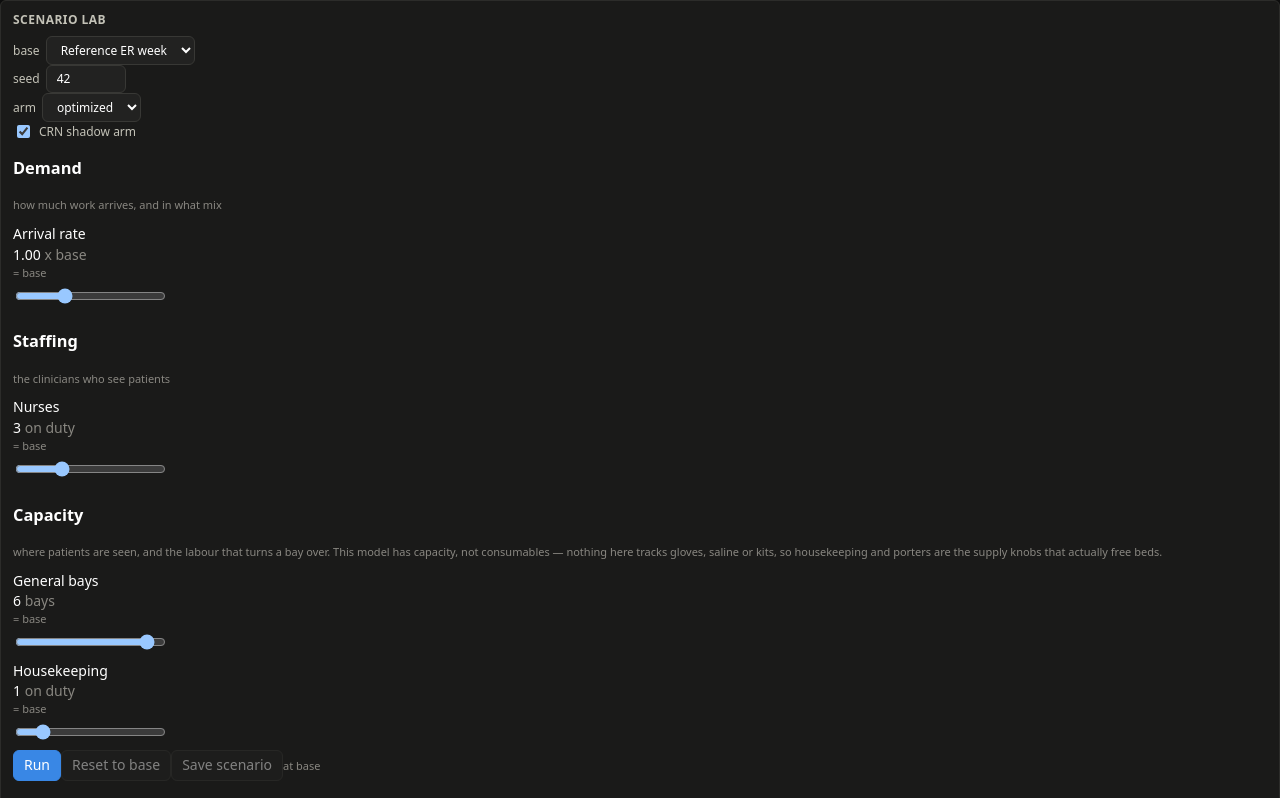
it: ScenarioLab renders from the catalogue › switching base re-reads the catalogue for the new scenario
Expected: the slider named "staffing.nurse_count" holds "3", [15,456,166,482]
Select "Monday surge" in the dropdown named "base scenario": (120, 51) [46,36,195,65]
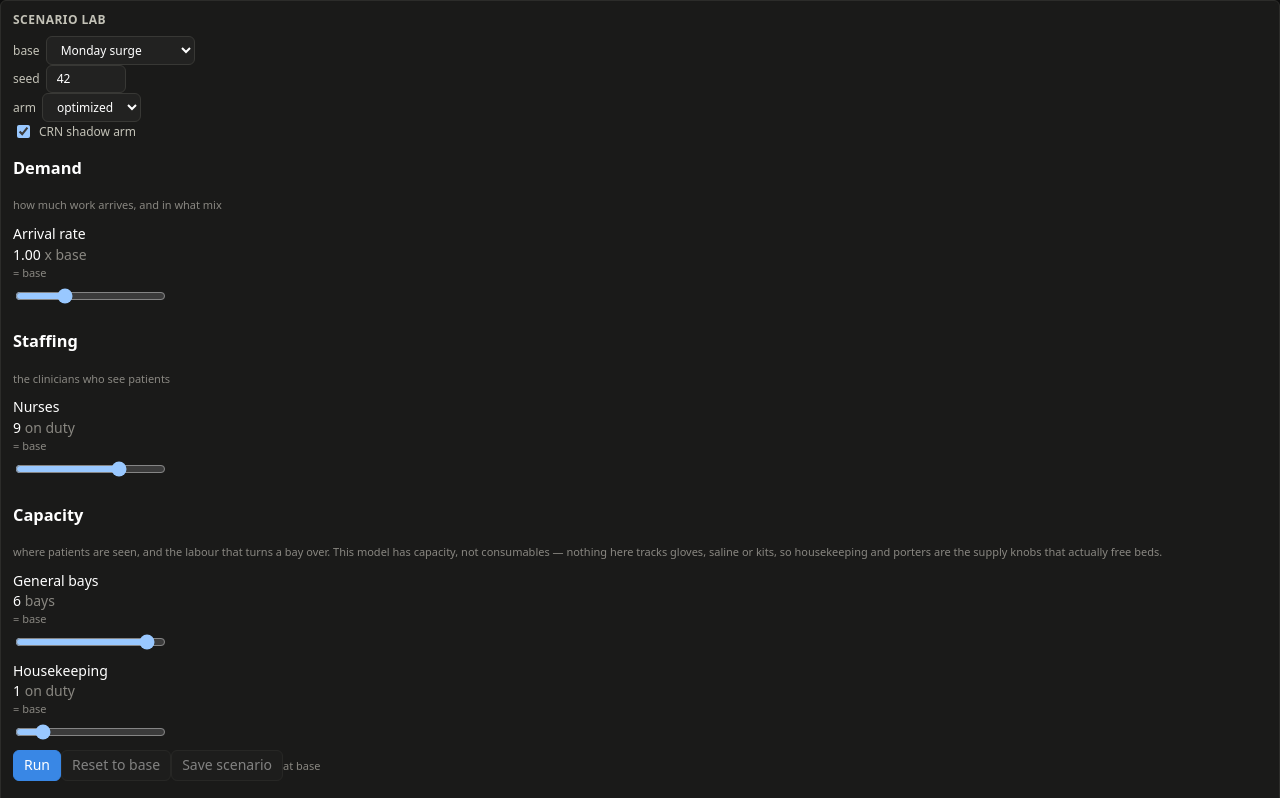
Expected: the slider named "staffing.nurse_count" holds "9", [15,456,166,482]
